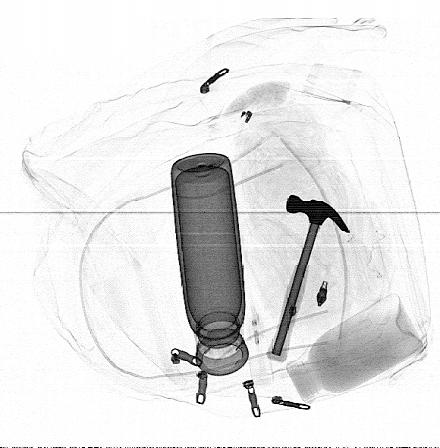Hammer: (266, 194, 351, 363)
